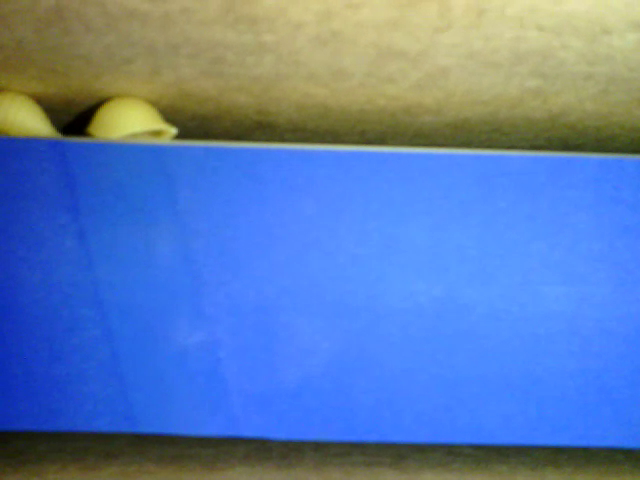shell: (86, 94, 176, 142), (1, 93, 66, 141)
